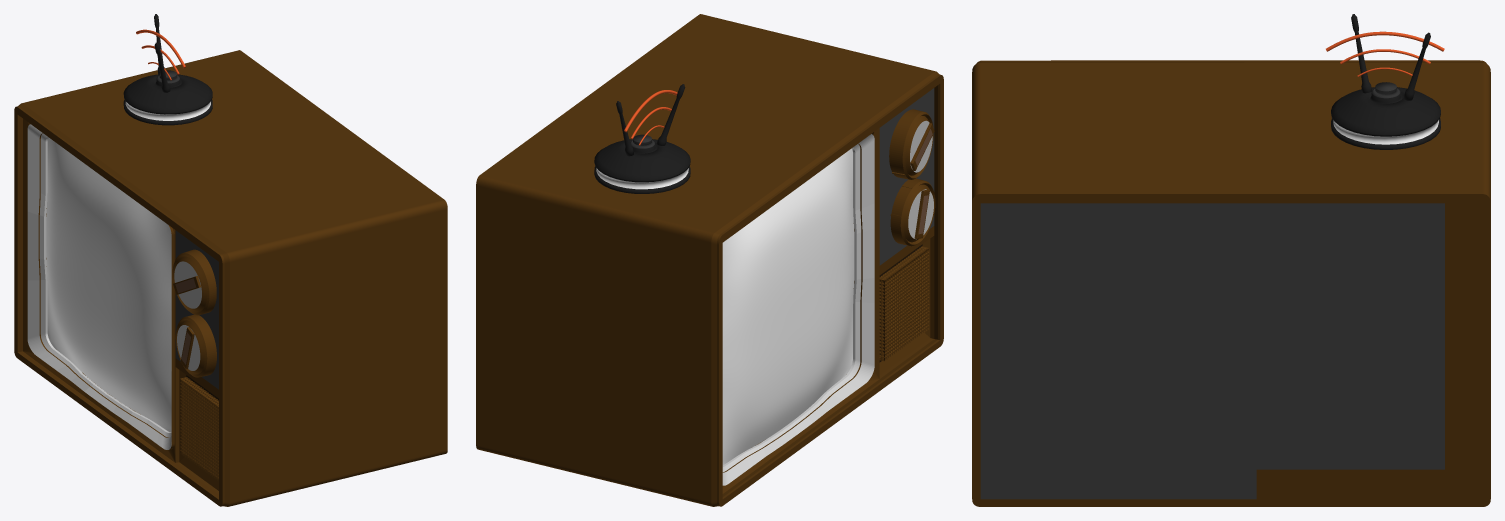
3 renders of one model, left to right at view 1: azimuth 30°, elevation 25°; view 2: azimuth 150°, elevation 25°; view 3: azimuth 270°, elevation 25°, orthographic. The views are drawn at different scales.
Visible parts, largest first — view 1: Cube.002, Cube.001, Cylinder.003; view 2: Cube.002, Cube.001, Cylinder.003; view 3: Cube.002, Cylinder.003.
Boxes of the visible parts, left/top/right/bottom form: Cube.002: left=14, top=50, right=447, bottom=506; Cube.001: left=46, top=137, right=171, bottom=432; Cylinder.003: left=123, top=14, right=212, bottom=125; Cube.002: left=476, top=14, right=943, bottom=506; Cube.001: left=722, top=148, right=854, bottom=465; Cylinder.003: left=594, top=84, right=690, bottom=193; Cube.002: left=972, top=60, right=1490, bottom=506; Cylinder.003: left=1331, top=14, right=1440, bottom=149.
Size of the model in its own units: 1.98 by 2.68 by 3.07.
